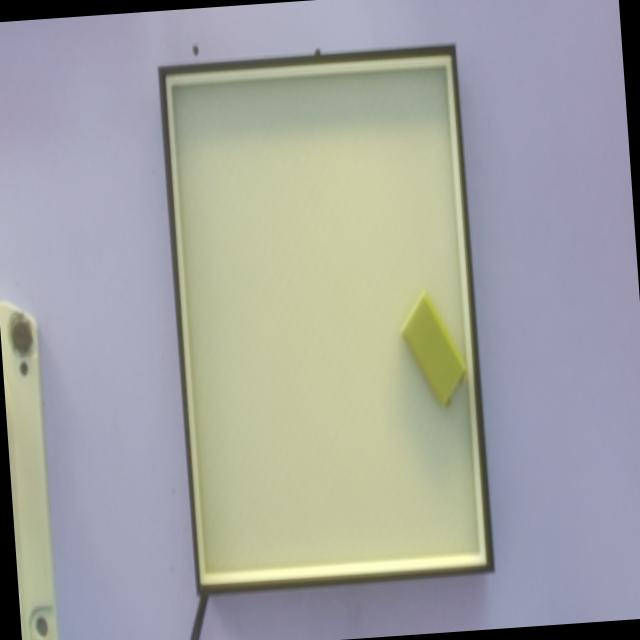bateria: (399, 290, 467, 408)
mesa: (157, 45, 495, 595)
